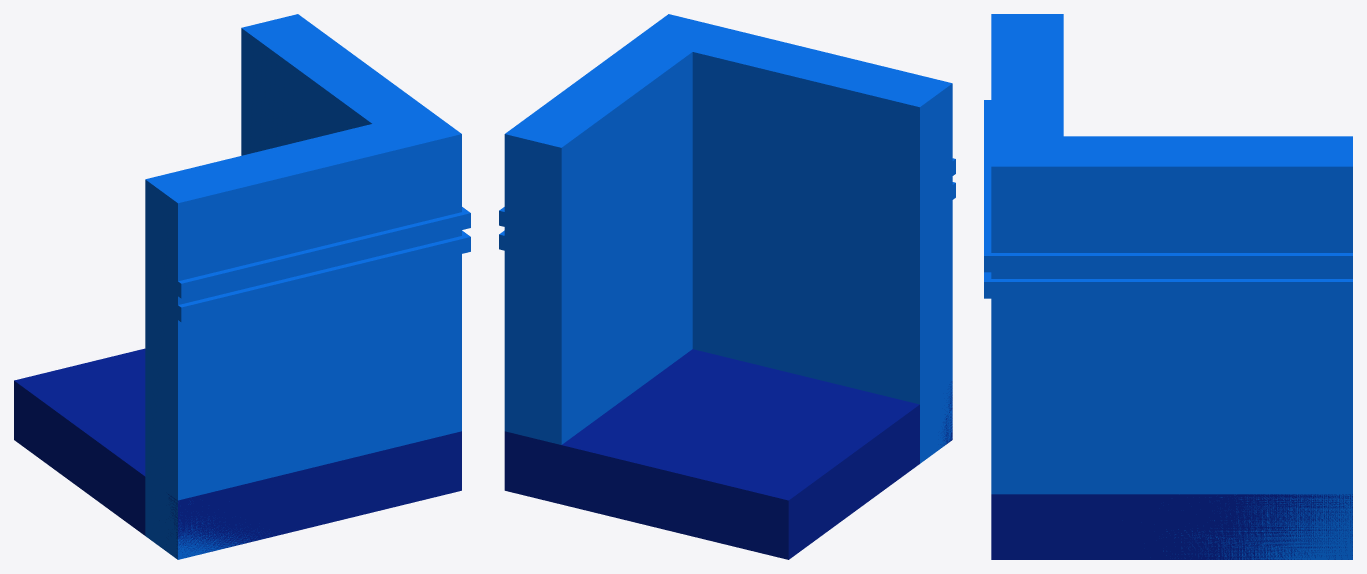
Rendered from arcade_tile_wall_corner_inner.fbx.
The picture shows the model from 3 angles, left to right: view 1: azimuth 30°, elevation 25°; view 2: azimuth 150°, elevation 25°; view 3: azimuth 270°, elevation 25°; orthographic projection. The views are drawn at different scales.
Visible parts, largest first — view 1: wall_corner_inner, tile_wall_corner_inner; view 2: wall_corner_inner, tile_wall_corner_inner; view 3: wall_corner_inner, tile_wall_corner_inner.
Part boxes in pixels (left/top/right/bottom): wall_corner_inner: left=145, top=14, right=470, bottom=559; tile_wall_corner_inner: left=14, top=348, right=461, bottom=555; wall_corner_inner: left=499, top=14, right=955, bottom=463; tile_wall_corner_inner: left=504, top=349, right=952, bottom=559; wall_corner_inner: left=984, top=14, right=1352, bottom=559; tile_wall_corner_inner: left=991, top=494, right=1352, bottom=559.
Size of the model in its own units: 5.1 by 6 by 5.1.
